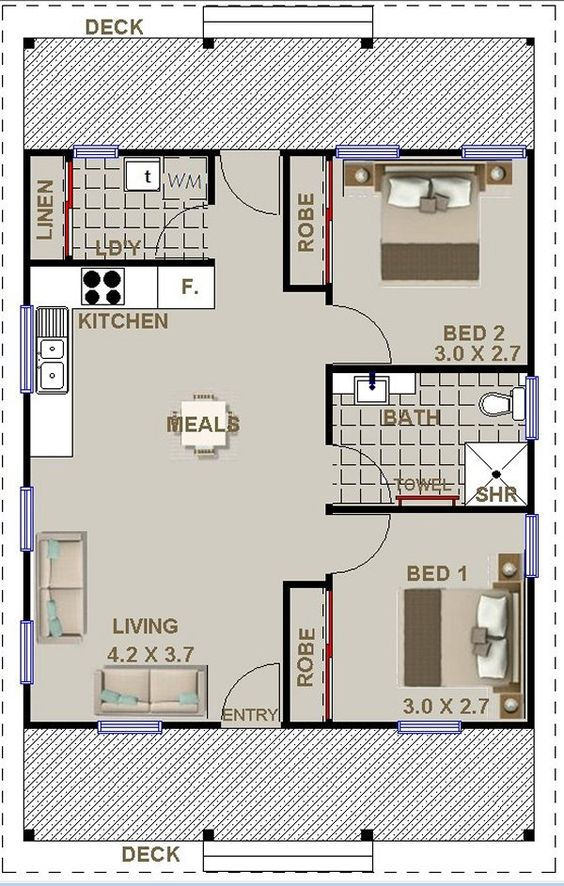door: (217, 155, 281, 222), (332, 302, 396, 364), (335, 511, 393, 567), (334, 449, 392, 503), (219, 655, 280, 703), (151, 210, 212, 258)
room: (19, 259, 333, 730), (283, 505, 538, 729), (279, 146, 536, 367), (316, 358, 539, 516), (22, 145, 219, 269)
window: (12, 301, 36, 396), (517, 509, 547, 581), (12, 616, 41, 686), (14, 483, 38, 555), (521, 371, 544, 443), (93, 715, 166, 736), (392, 716, 465, 737), (456, 142, 529, 160), (335, 143, 402, 160), (70, 142, 119, 162)
